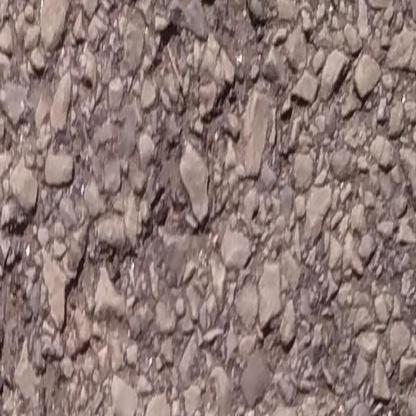Cracks: (0, 254, 35, 416), (56, 222, 99, 337)
